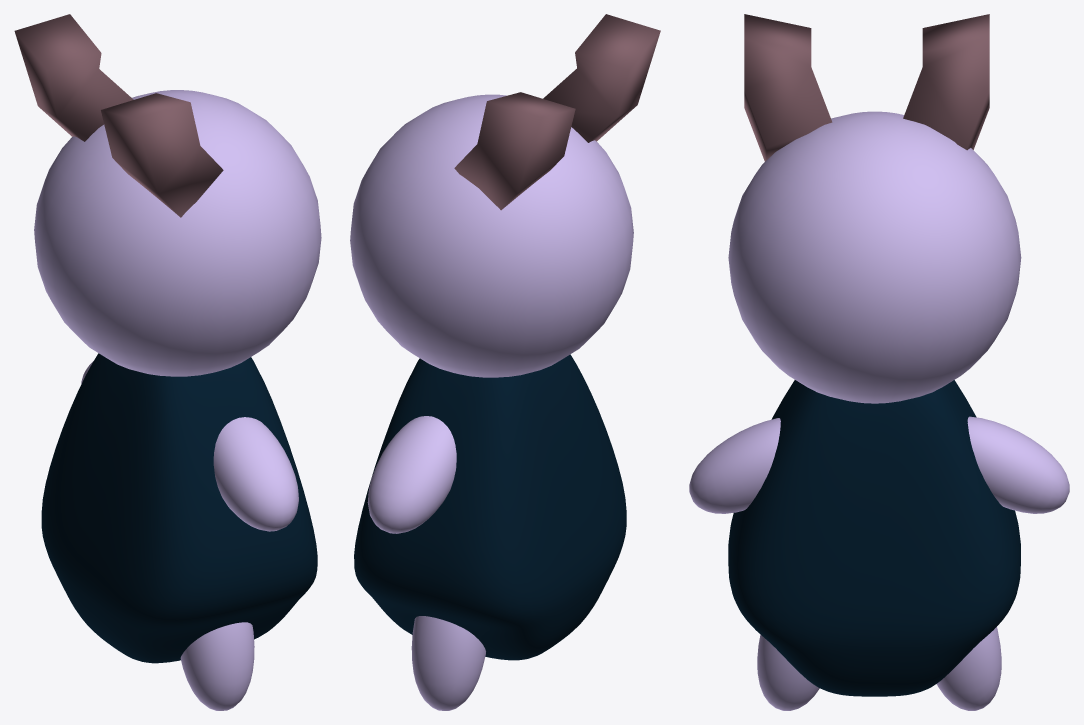
Rendered from Player.gltf.
3 renders of one model, left to right at view 1: azimuth 30°, elevation 25°; view 2: azimuth 150°, elevation 25°; view 3: azimuth 270°, elevation 25°, orthographic. The views are drawn at different scales.
Visible parts, largest first — view 1: Body, Face, Horns, Hands.001, Feet.001; view 2: Face, Body, Horns, Hands, Feet; view 3: Body, Face, Horns, Hands, Hands.001, Feet, Feet.001.
Boxes of the visible parts, x1,y1,x2,y2 form: Body: (41,353,317,663); Face: (34,90,321,376); Horns: (14,14,223,217); Hands.001: (213,417,298,531); Feet.001: (180,622,254,710); Face: (350,94,633,377); Body: (354,354,626,660); Horns: (454,14,660,210); Hands: (367,416,456,533); Feet: (411,616,485,710); Body: (728,380,1020,696); Face: (728,111,1021,403); Horns: (744,14,989,161); Hands: (967,416,1069,513); Hands.001: (689,418,780,513); Feet: (937,627,1001,710); Feet.001: (757,634,819,710).
Size of the model in its own units: 0.8209 by 2 by 1.07.
